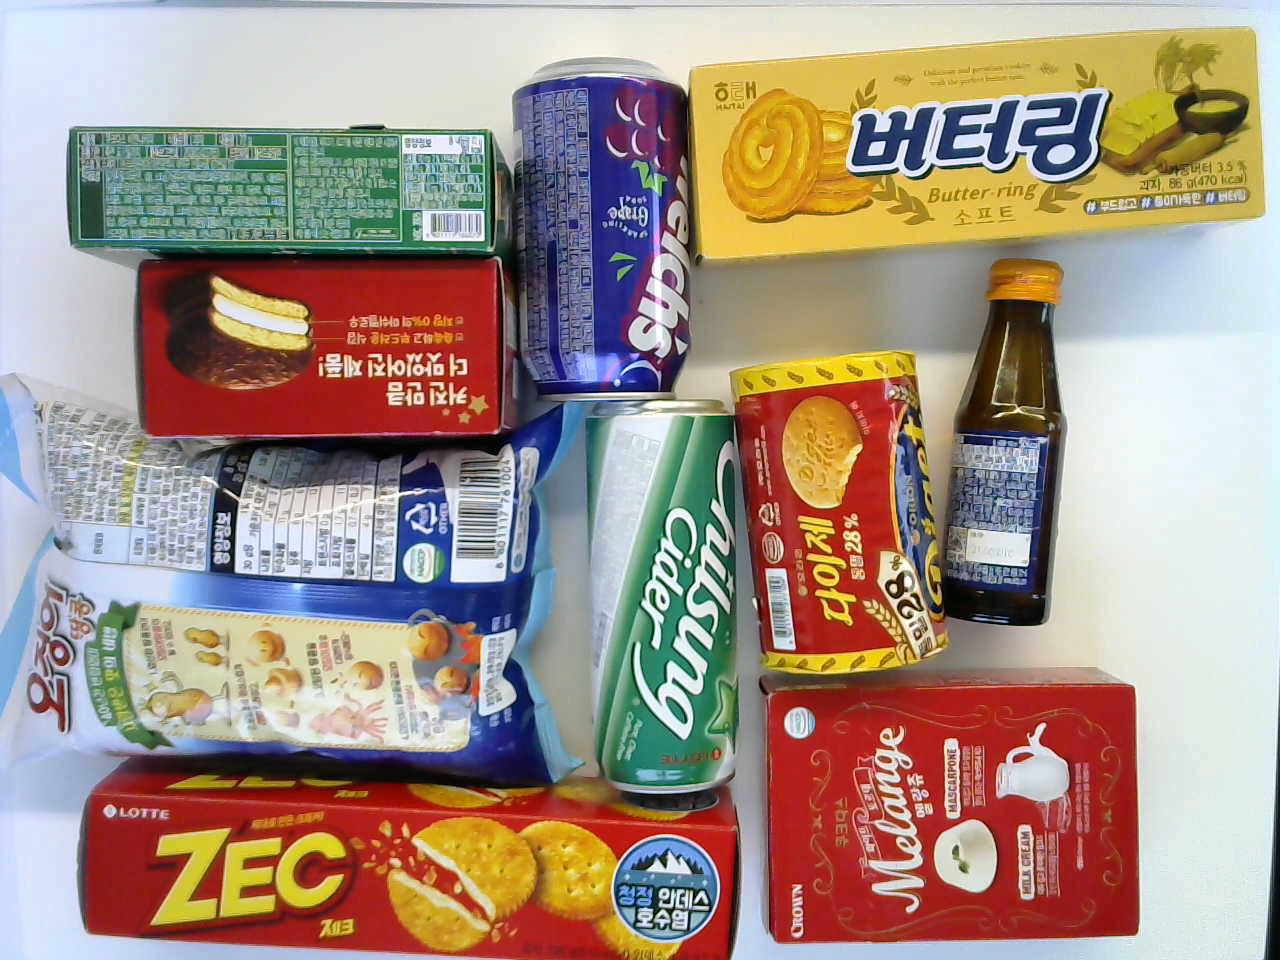buttering: (693, 28, 1267, 262)
chocopie: (132, 258, 516, 432)
cidar: (582, 398, 745, 783)
couque_coffee: (62, 119, 518, 247)
couque_white: (762, 661, 1138, 941)
diget_ori: (726, 347, 954, 667)
squid_peanut: (1, 372, 565, 767)
vita500: (945, 250, 1071, 625)
welchs: (510, 50, 694, 400)
zec: (81, 754, 744, 959)
